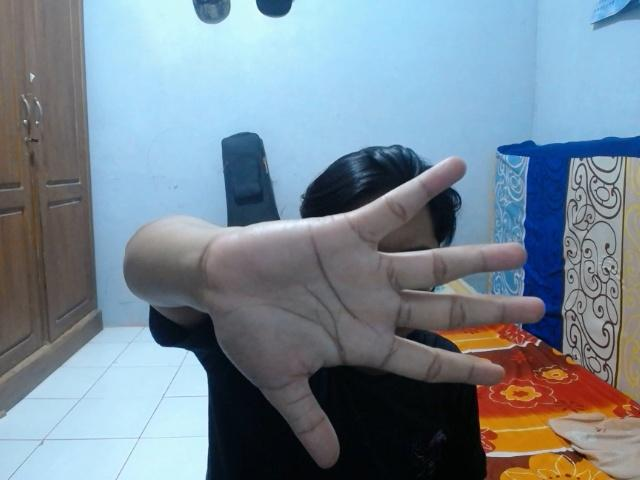Release: (199, 151, 548, 473)
